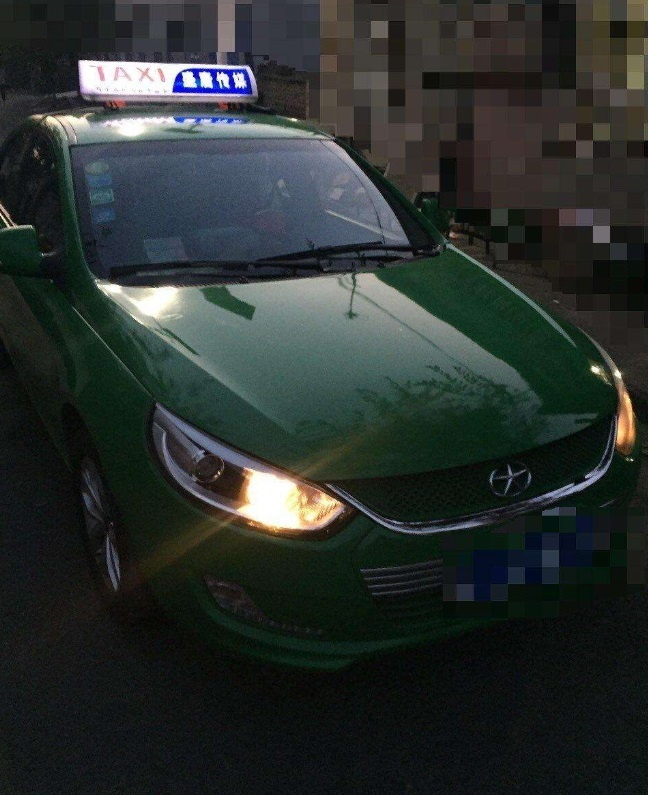taxi: (20, 49, 637, 673)
